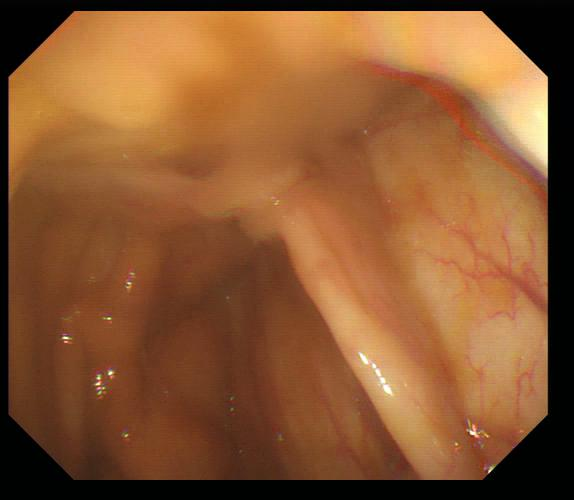polyp: (238, 203, 278, 242), (56, 295, 93, 331)
